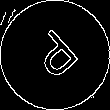P_SE: (24, 24, 86, 86)
